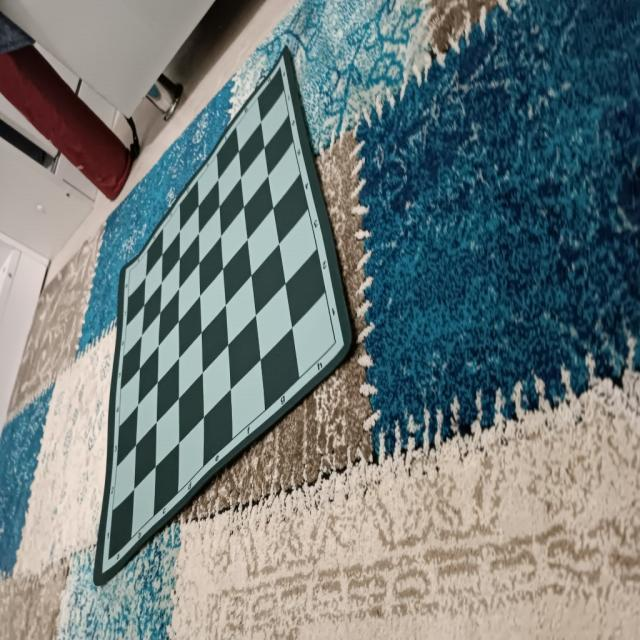chess-table-corners: (270, 56, 290, 82), (120, 259, 138, 283), (100, 548, 118, 571), (328, 330, 343, 354)
